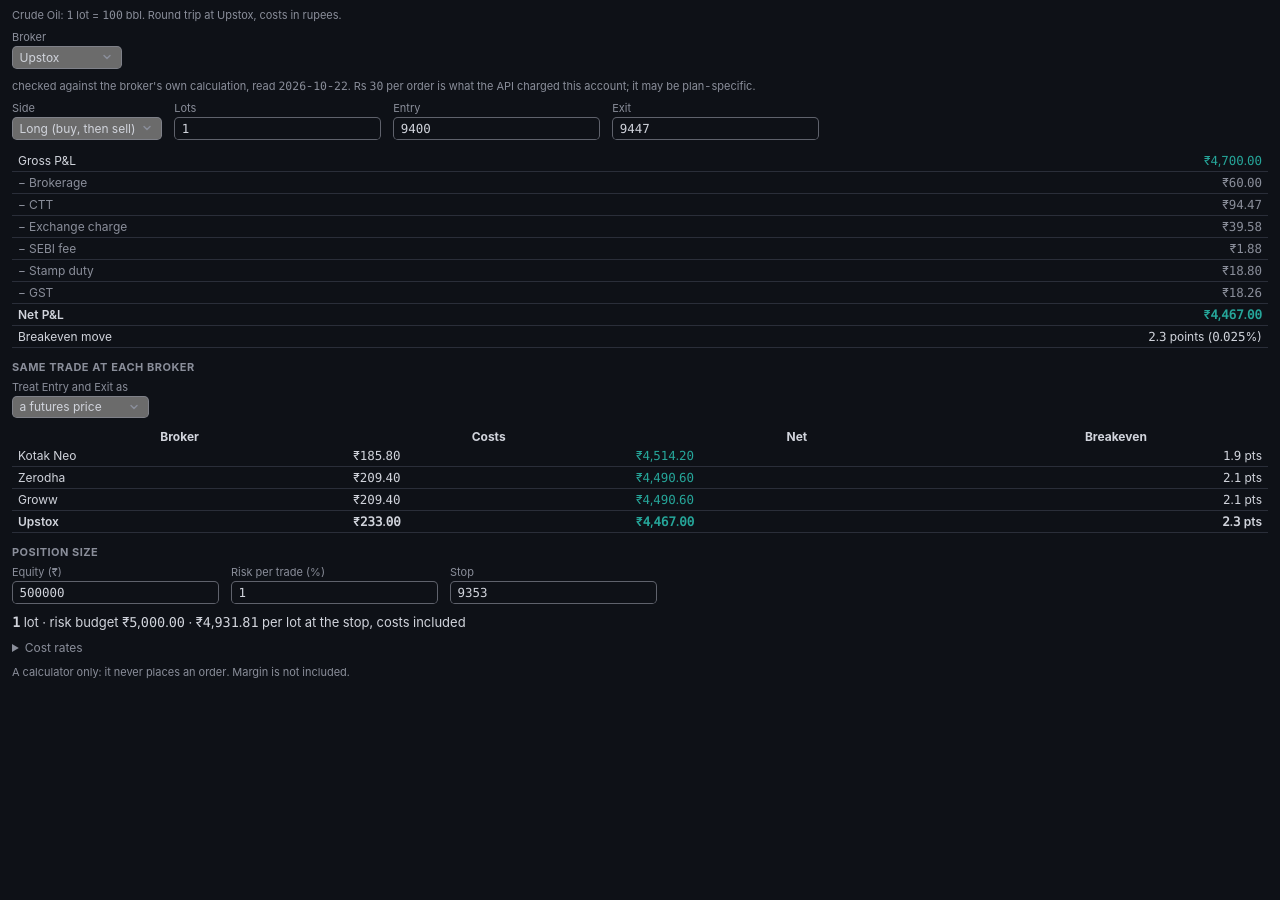
Test: the lot count follows the risk setting
Replace the text in the number field labelled "Risk per trade (%)" with "0.1" at (334, 593), box [231, 581, 438, 604]
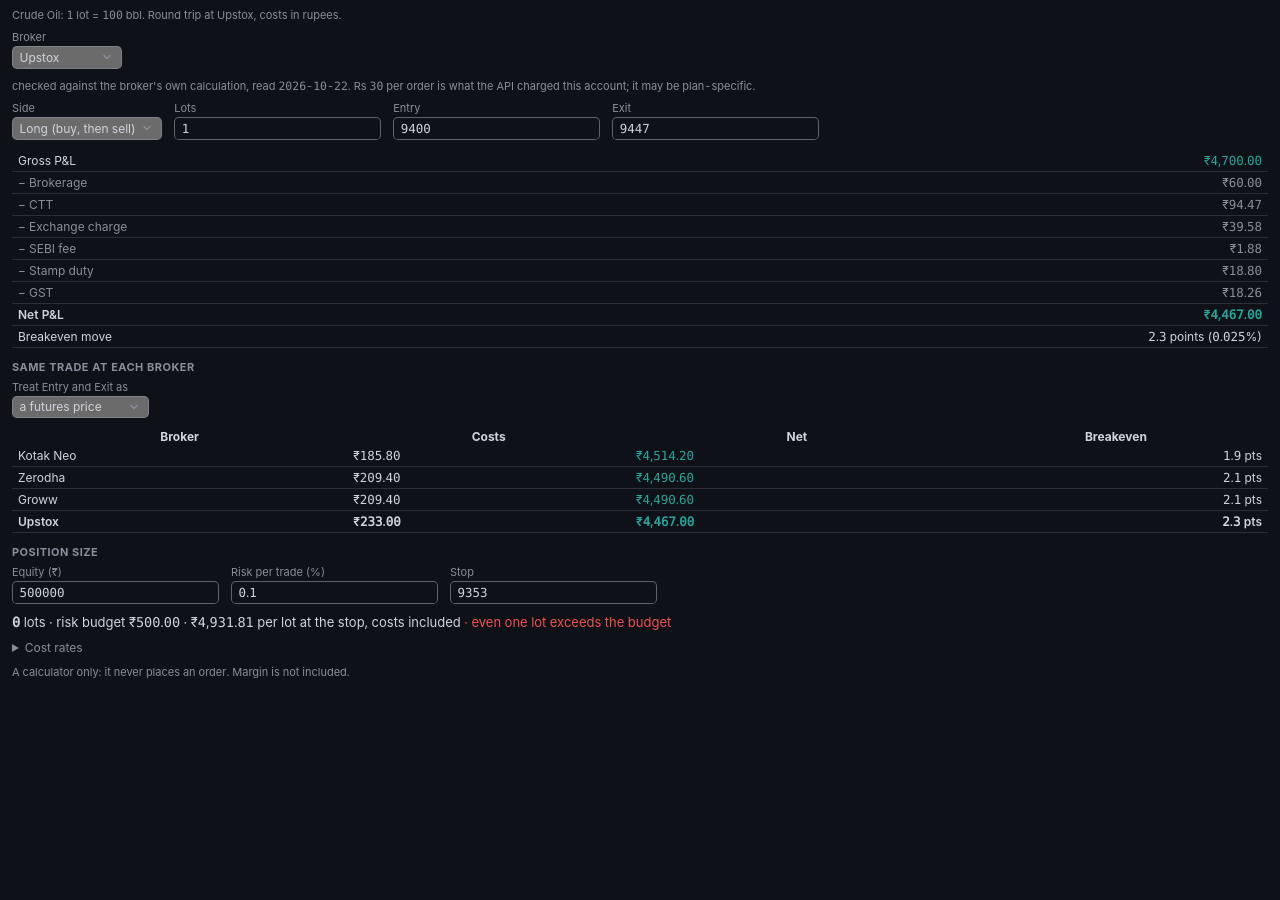
Expected: the text "· even one lot exceeds the budget" is shown, [461, 614, 671, 630]
